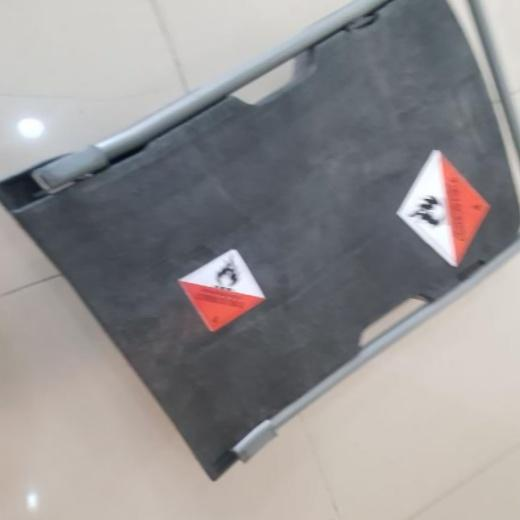spontaneously-combustible: (389, 141, 491, 272), (173, 242, 276, 345)
